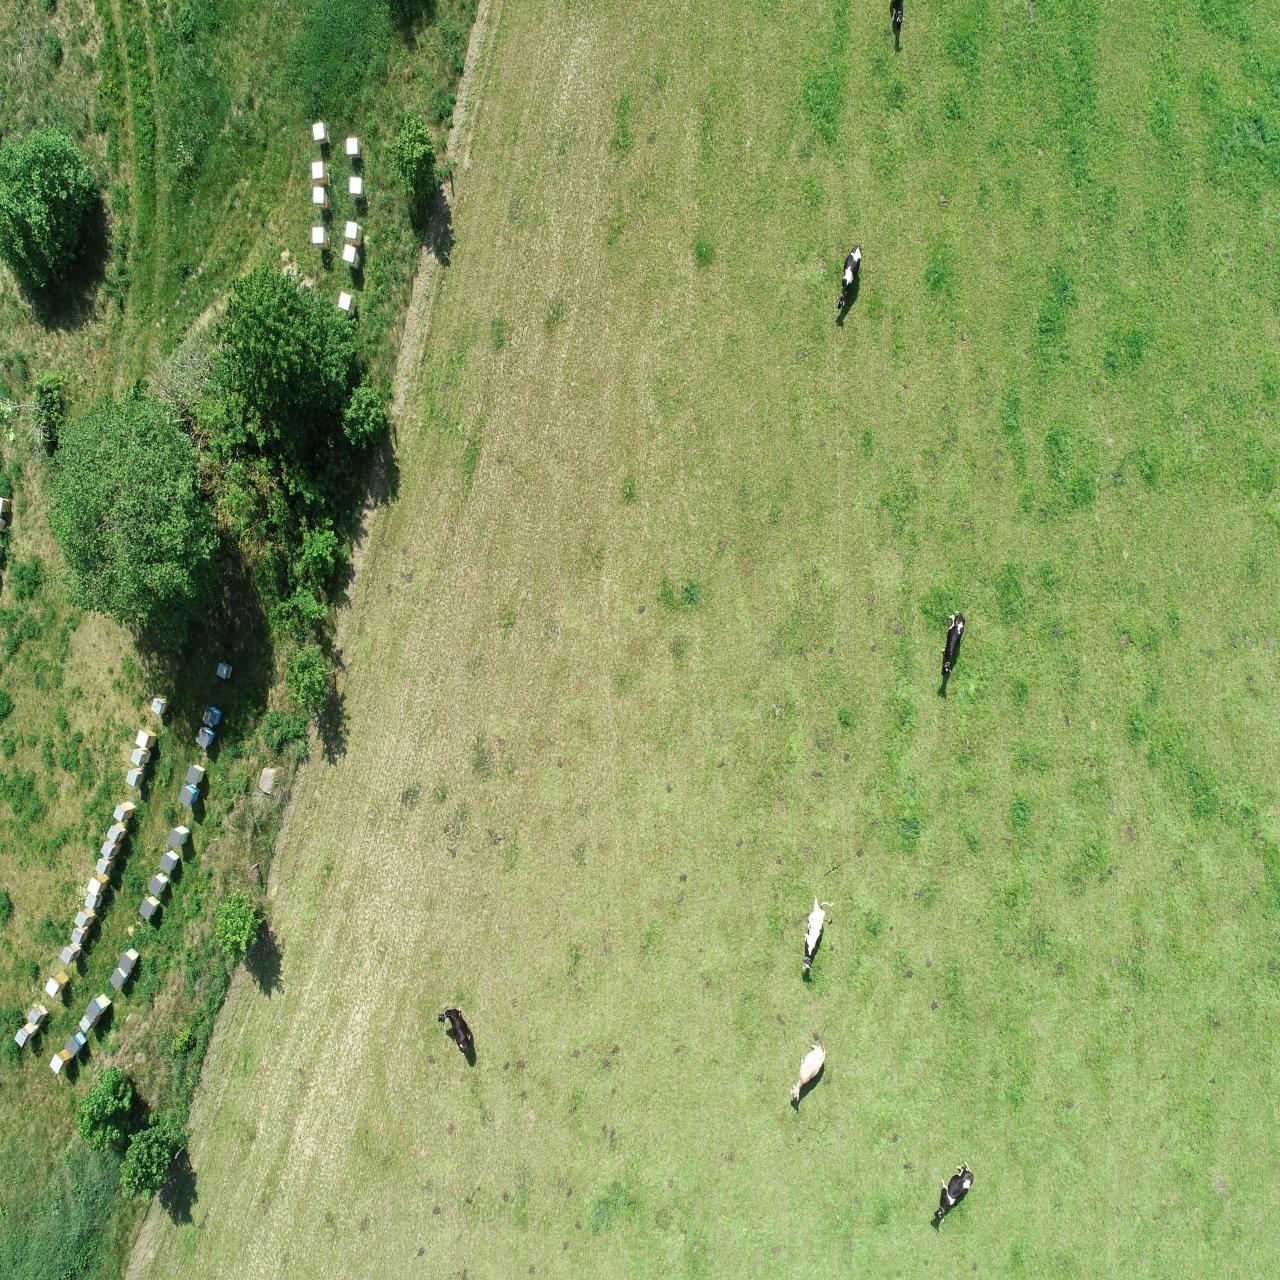cow: (928, 1157, 976, 1231), (802, 893, 838, 986), (788, 1039, 829, 1108), (836, 241, 867, 322), (938, 608, 967, 682), (436, 1002, 474, 1054)
